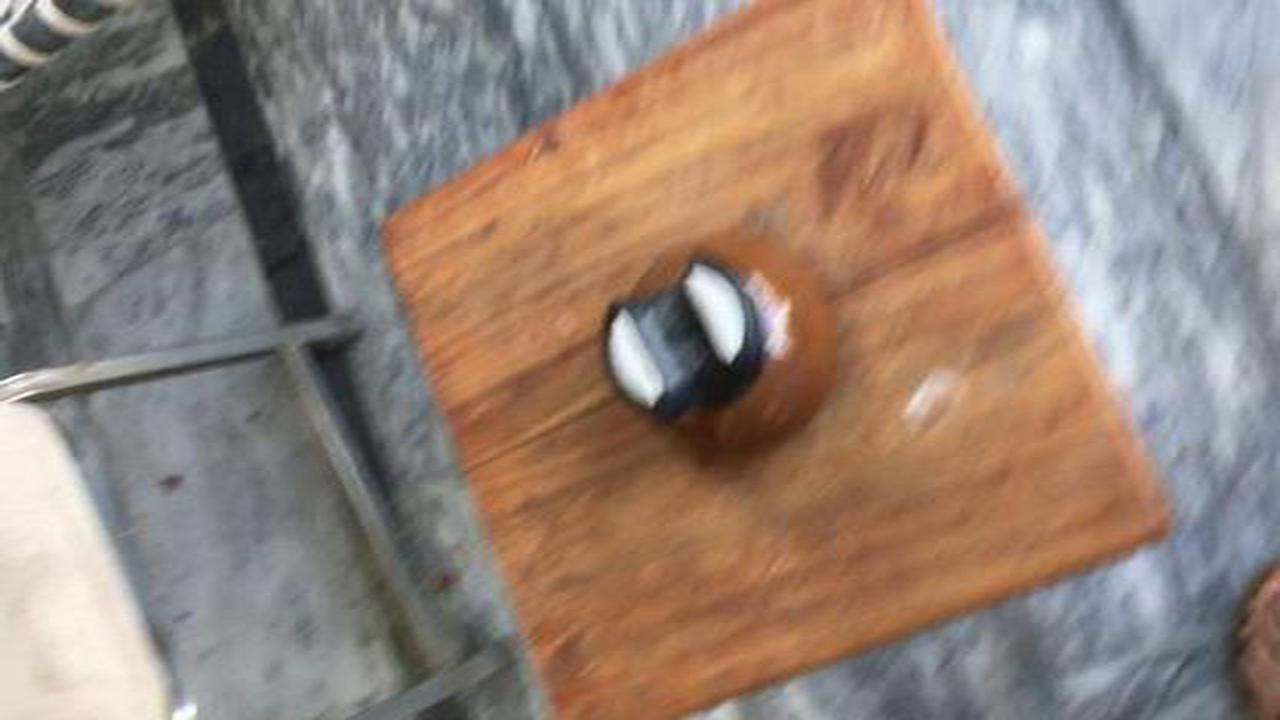insulator_pin: (582, 220, 862, 480)
